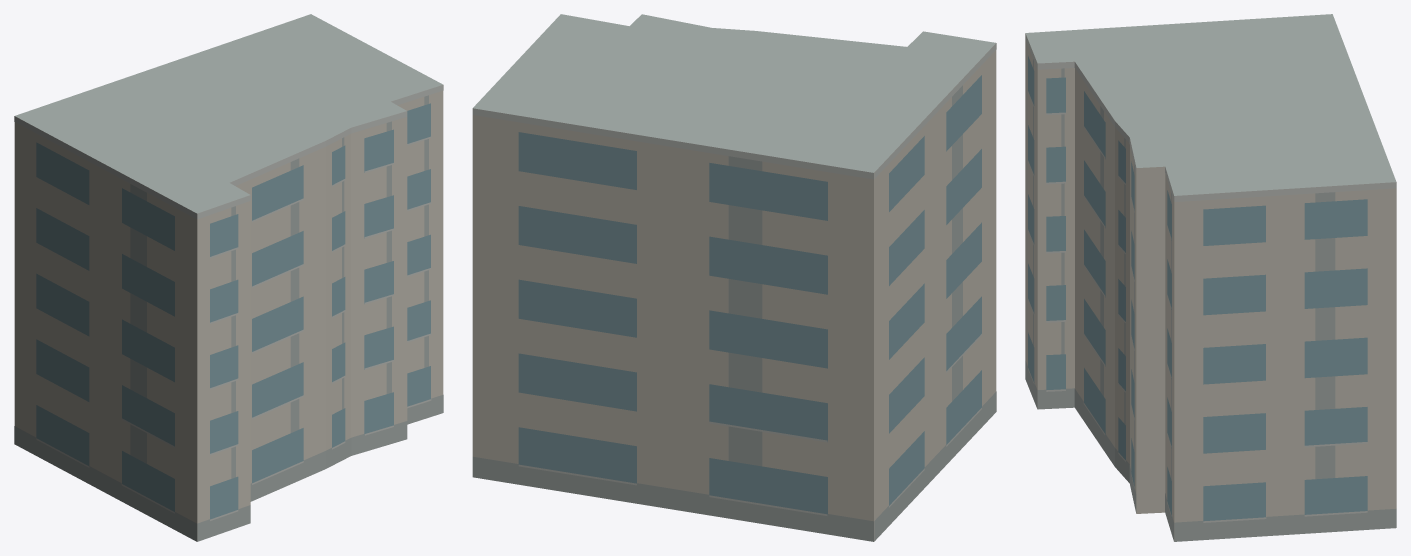
File: survey-upis-32958028.glb
3 renders of one model, left to right at view 1: azimuth 30°, elevation 25°; view 2: azimuth 150°, elevation 25°; view 3: azimuth 270°, elevation 25°, orthographic. The views are drawn at different scales.
Visible parts, largest first — view 1: survey-upis-32958028.tmp; view 2: survey-upis-32958028.tmp; view 3: survey-upis-32958028.tmp.
Part boxes in pixels (x1,y1,x2,y2): survey-upis-32958028.tmp: [14, 14, 443, 541]; survey-upis-32958028.tmp: [472, 14, 996, 541]; survey-upis-32958028.tmp: [1025, 14, 1396, 541].
Bounding box in the file's own units: 15.35 × 13.6 × 13.24.
